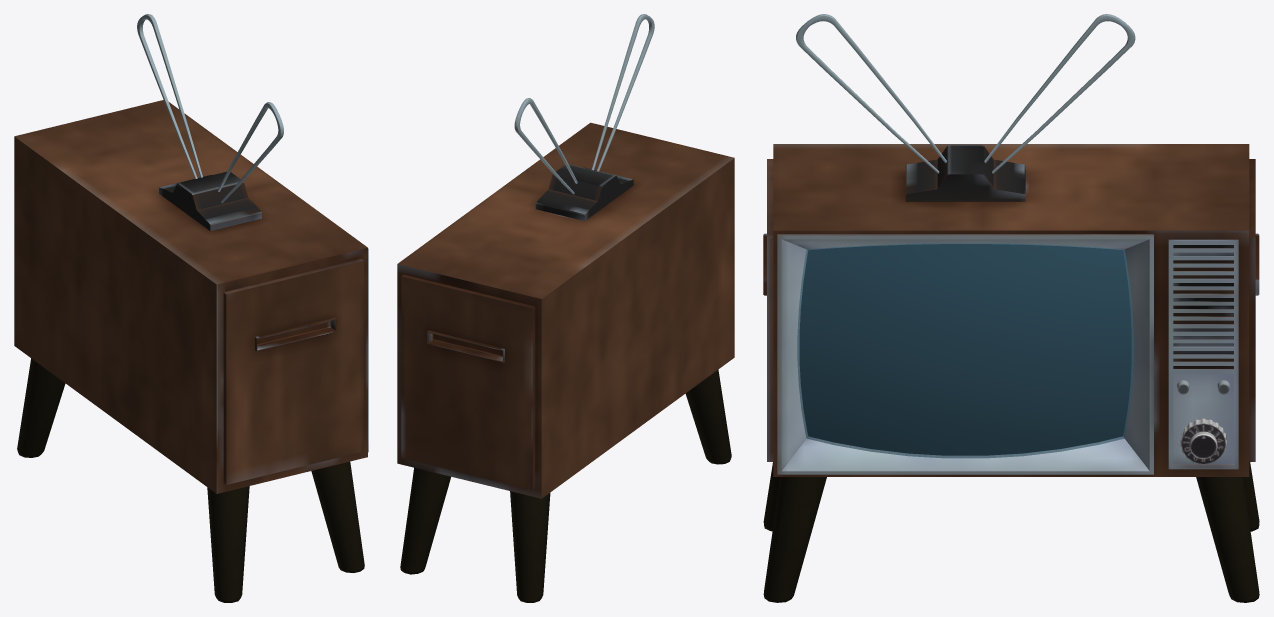
3 views of the same model, side by side, from view 1: azimuth 30°, elevation 25°; view 2: azimuth 150°, elevation 25°; view 3: azimuth 270°, elevation 25° (orthographic). The views are drawn at different scales.
Parts seen in each view (by area): view 1: tvBody, tvLegs, tvAnt; view 2: tvBody, tvLegs, tvAnt; view 3: tvBody, tvScreenGlass_Glass_0, TVScreen, tvLegs, tvAnt, tvDial.
Boxes of the visible parts, x1=… form: tvBody: x1=14, y1=100, x2=368, y2=493; tvLegs: x1=17, y1=358, x2=364, y2=602; tvAnt: x1=137, y1=14, x2=283, y2=203; tvBody: x1=397, y1=122, x2=734, y2=498; tvLegs: x1=400, y1=369, x2=731, y2=602; tvAnt: x1=514, y1=14, x2=654, y2=194; tvBody: x1=763, y1=144, x2=1259, y2=476; tvScreenGlass_Glass_0: x1=797, y1=243, x2=1133, y2=458; TVScreen: x1=800, y1=244, x2=1131, y2=455; tvLegs: x1=763, y1=462, x2=1259, y2=602; tvAnt: x1=796, y1=14, x2=1135, y2=173; tvDial: x1=1180, y1=418, x2=1226, y2=464.
Bounding box in the file's own units: 0.2729 × 0.7411 × 0.6075.
Materials: 3 (2 with a texture image).
